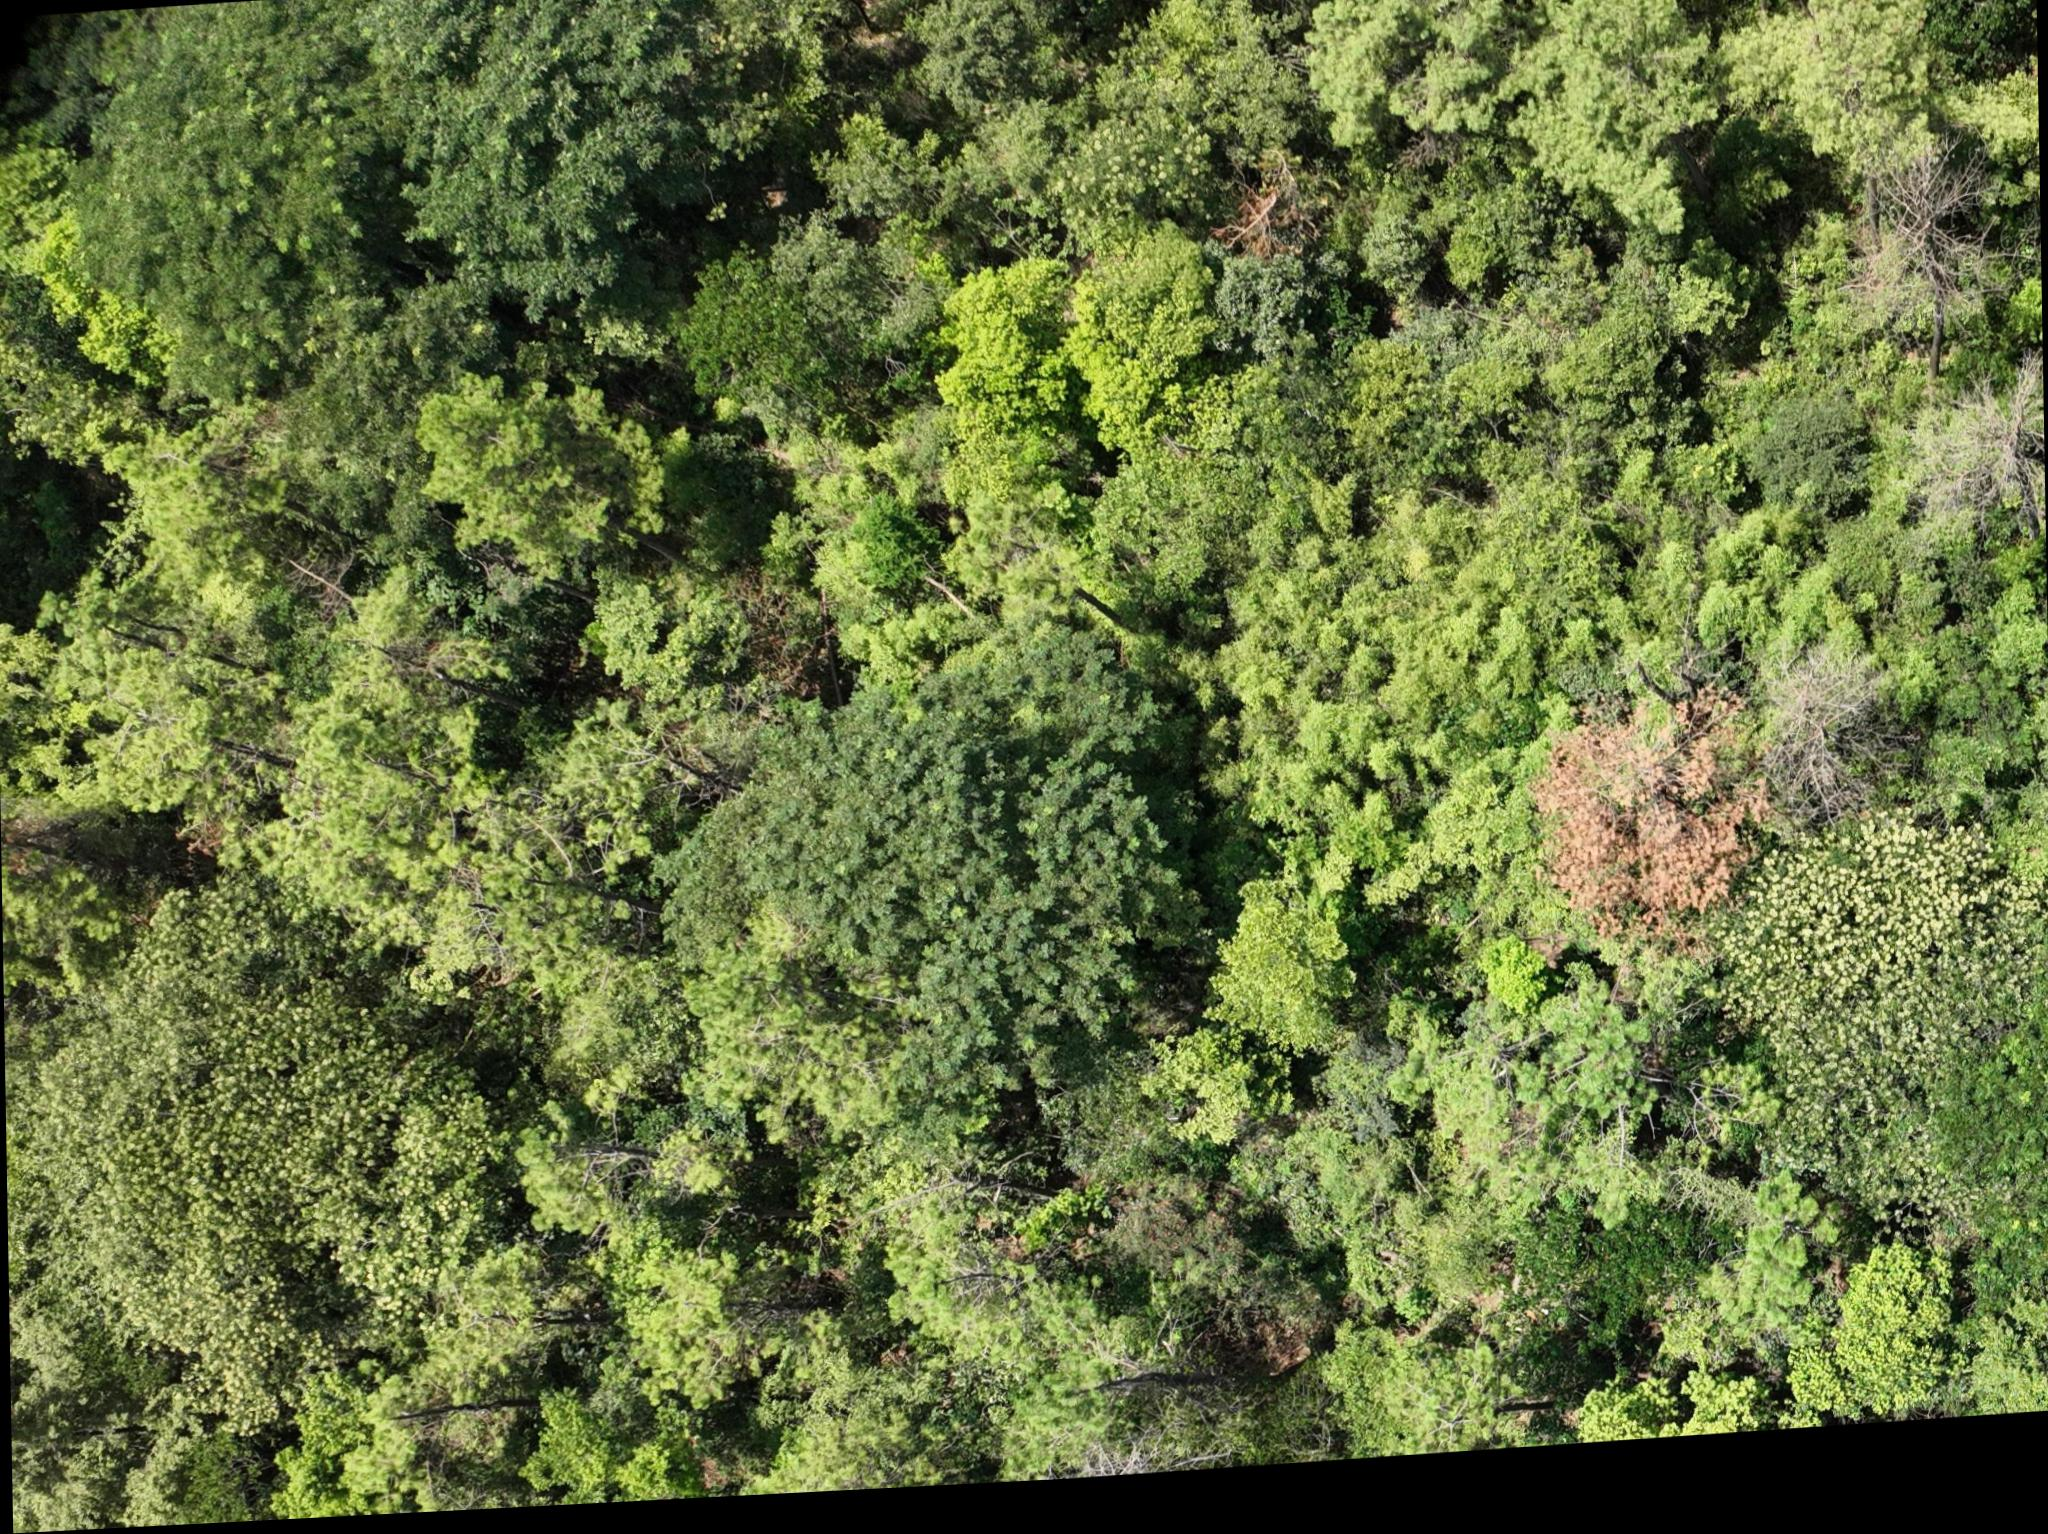dead: (1774, 682, 1885, 828)
heavy: (1528, 698, 1752, 970)
